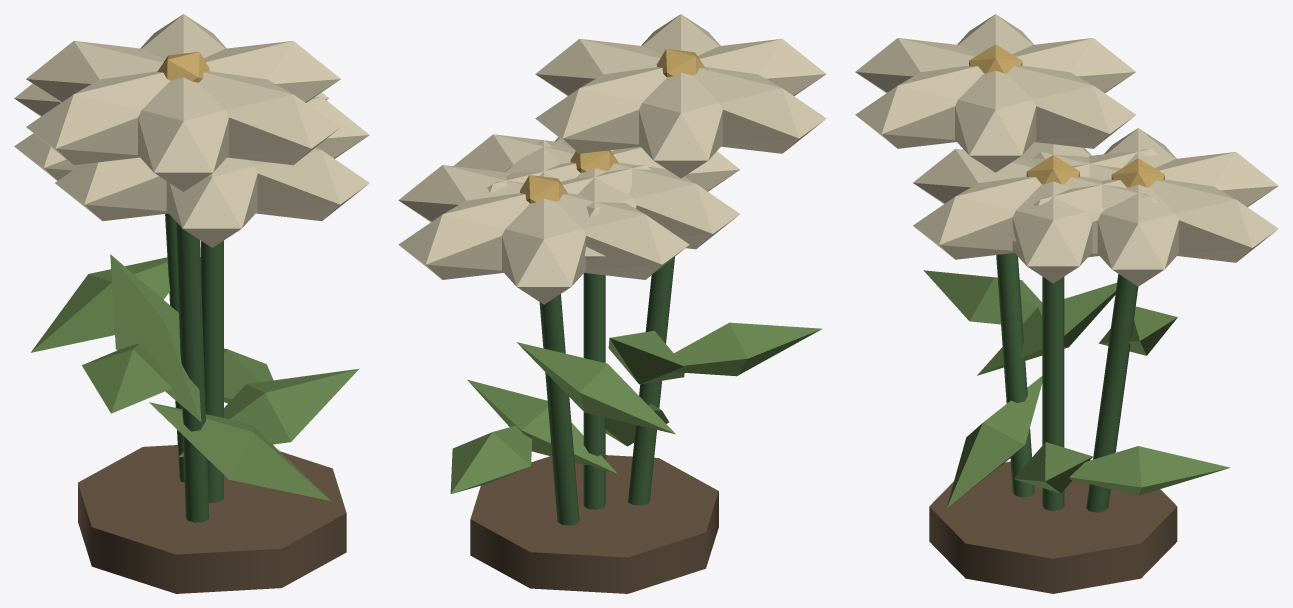
The model's file is plant-moonflower-3.glb.
3 views of the same model, side by side, from view 1: azimuth 30°, elevation 25°; view 2: azimuth 150°, elevation 25°; view 3: azimuth 270°, elevation 25° (orthographic). The views are drawn at different scales.
Parts seen in each view (by area): view 1: plant-moonflower-3-visual; view 2: plant-moonflower-3-visual; view 3: plant-moonflower-3-visual.
Boxes of the visible parts, bbox=[...] form: plant-moonflower-3-visual: bbox=[14, 14, 369, 593]; plant-moonflower-3-visual: bbox=[398, 14, 826, 593]; plant-moonflower-3-visual: bbox=[855, 14, 1278, 593].
Bounding box in the file's own units: 0.4699 × 0.66 × 0.5468.
